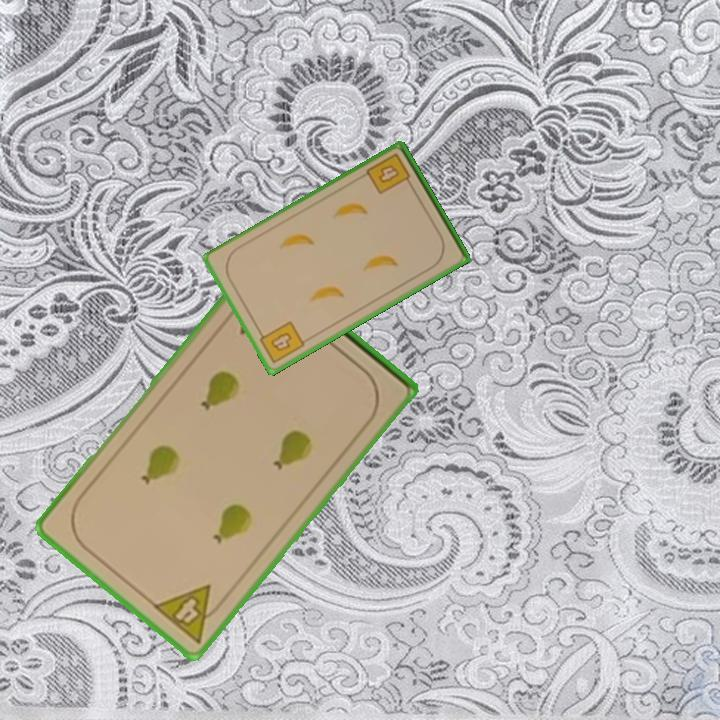4b: (254, 318, 308, 367), (363, 150, 415, 197)
4p: (149, 581, 230, 647)
